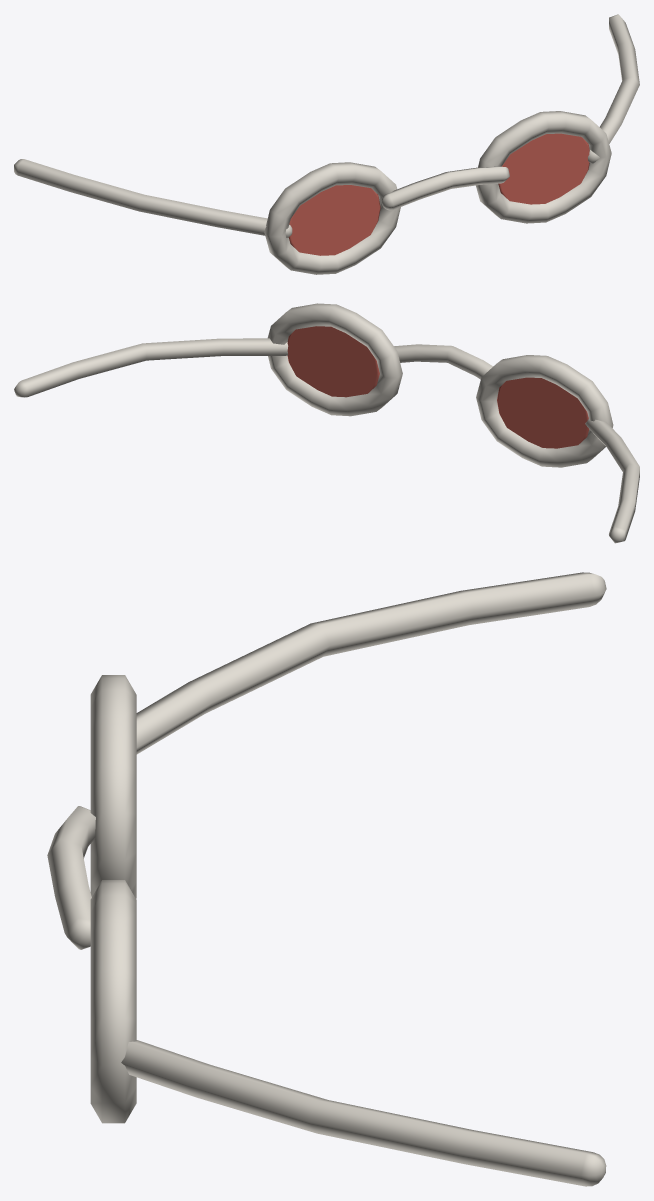
Rendered from 3d_glasses.glb.
The picture shows the model from 3 angles, top to bottom: view 1: azimuth 30°, elevation 25°; view 2: azimuth 150°, elevation 25°; view 3: azimuth 270°, elevation 25°; orthographic projection. The views are drawn at different scales.
Parts seen in each view (by area): view 1: 3d_glasses_Head; view 2: 3d_glasses_Head; view 3: 3d_glasses_Head.
Part boxes in pixels (bbox=[...]): 3d_glasses_Head: bbox=[14, 14, 639, 274]; 3d_glasses_Head: bbox=[14, 303, 639, 543]; 3d_glasses_Head: bbox=[47, 572, 606, 1186].
Size of the model in its own units: 0.674 by 0.1126 by 0.2681.
